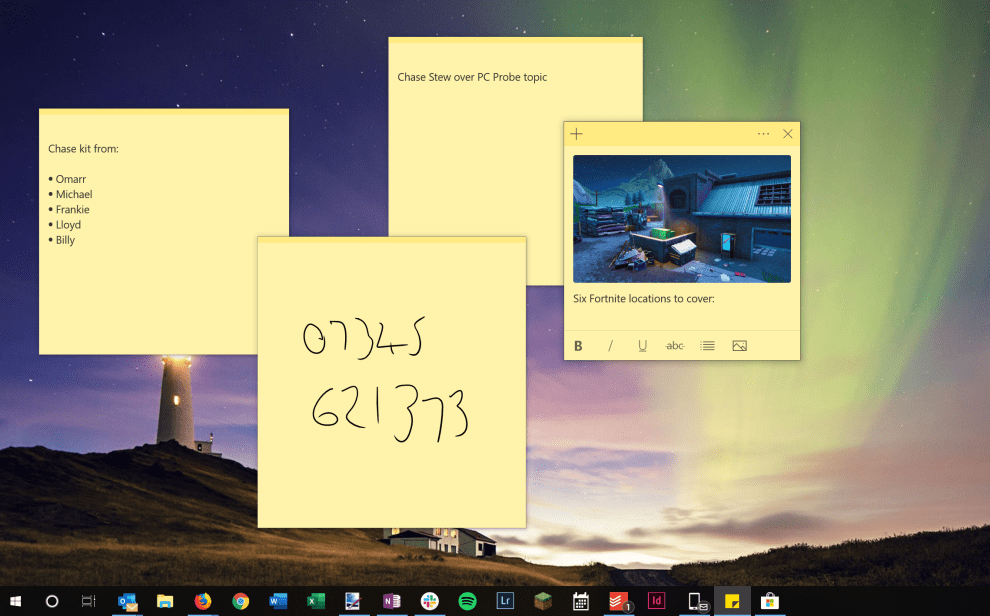Note: (255, 235, 525, 531), (388, 37, 643, 281), (37, 108, 289, 353), (565, 120, 802, 361)
